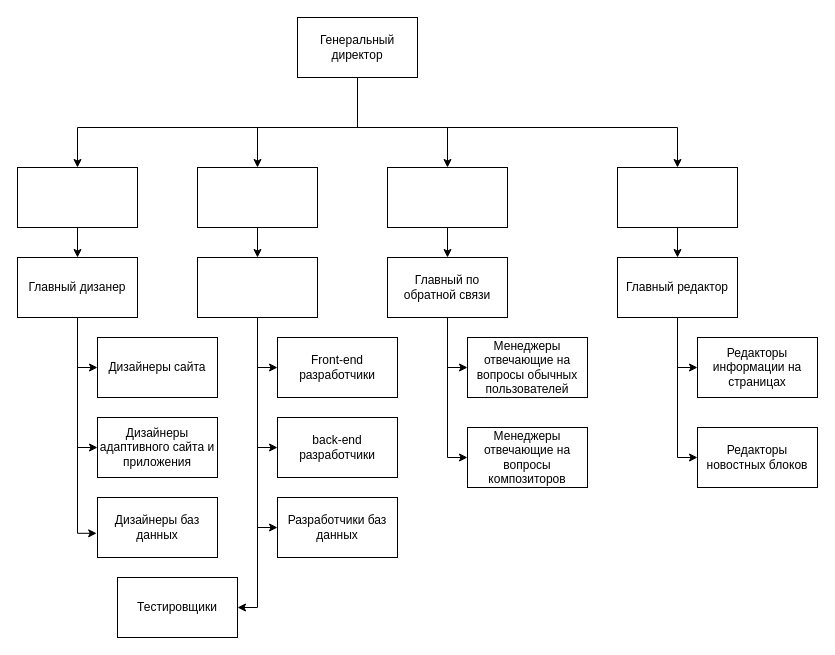
This 835x655 diagram has some shape labels left out. Here are the shapes that lost their labels. From the top down, the box of each, then its label:
(16, 166, 138, 228): Отдел дизайна
(196, 166, 318, 228): Отдел разработки
(386, 166, 508, 228): Отдел связи с пользователями
(616, 166, 738, 228): Отдел редактирования сайта
(196, 256, 318, 318): Главный разработчик
